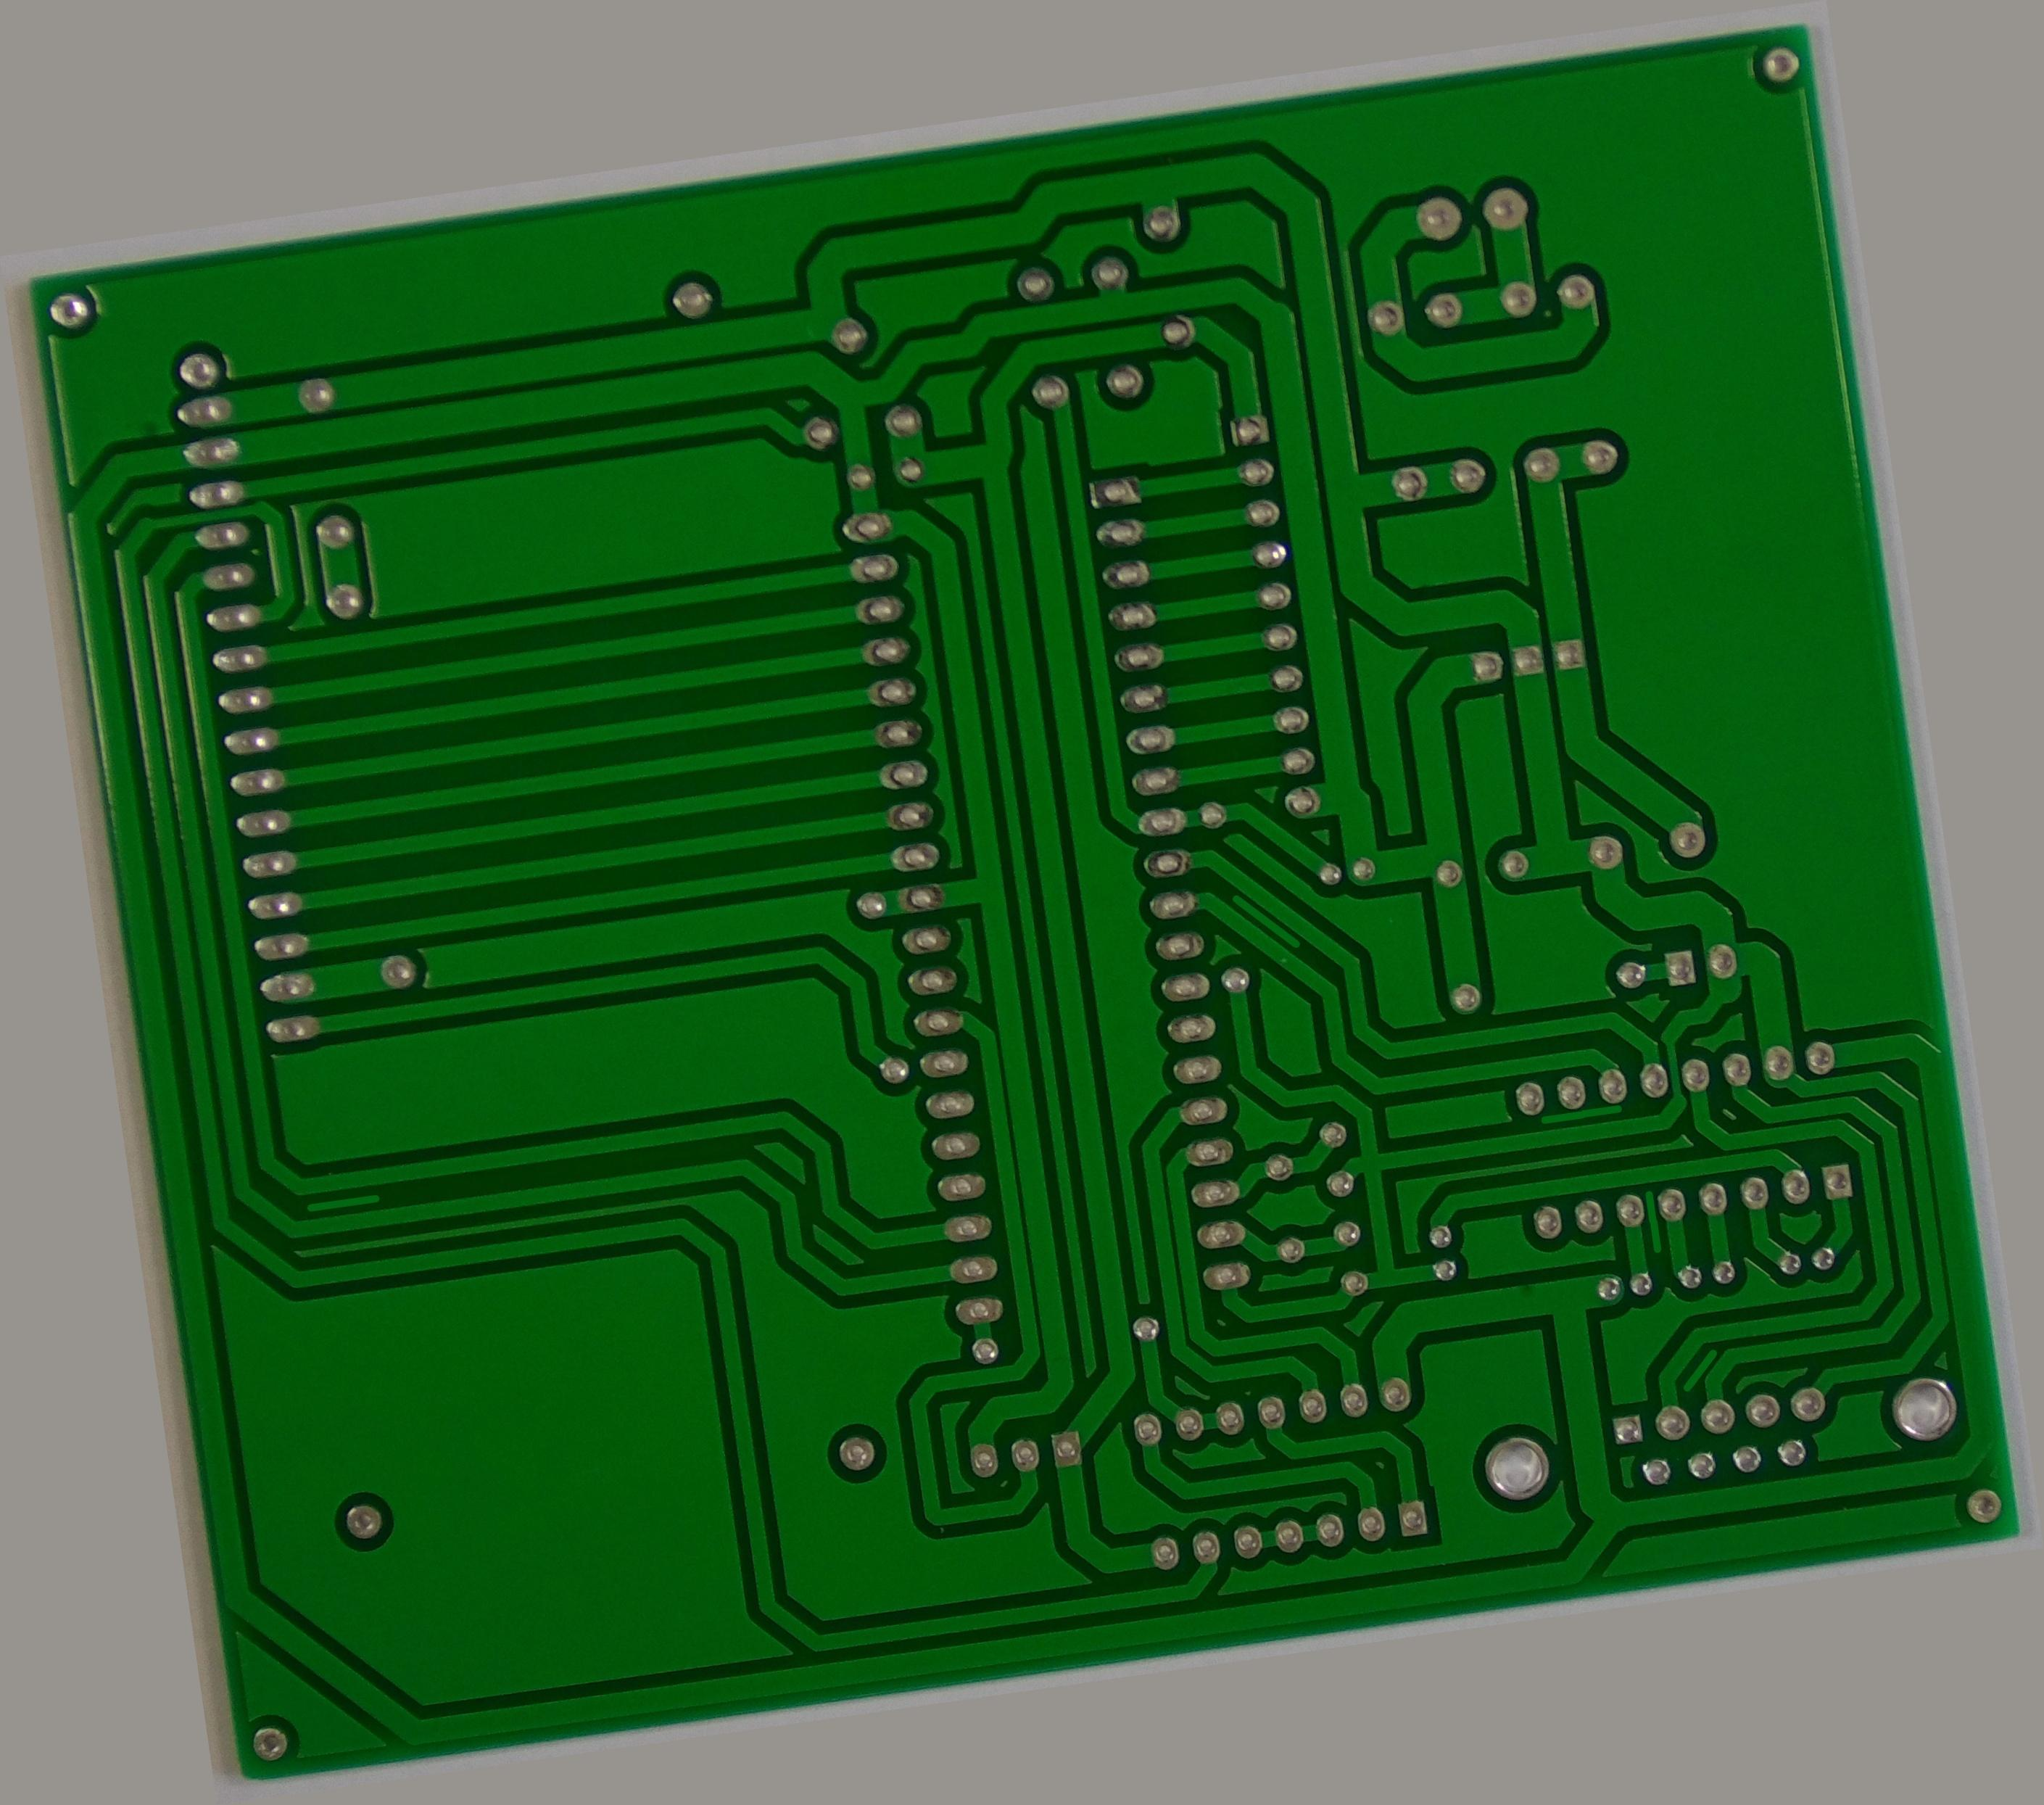spurious_copper: (1239, 920, 1324, 1007), (1659, 1514, 1732, 1575), (1549, 1216, 1655, 1251), (1648, 1324, 1689, 1410), (181, 1126, 279, 1150)
